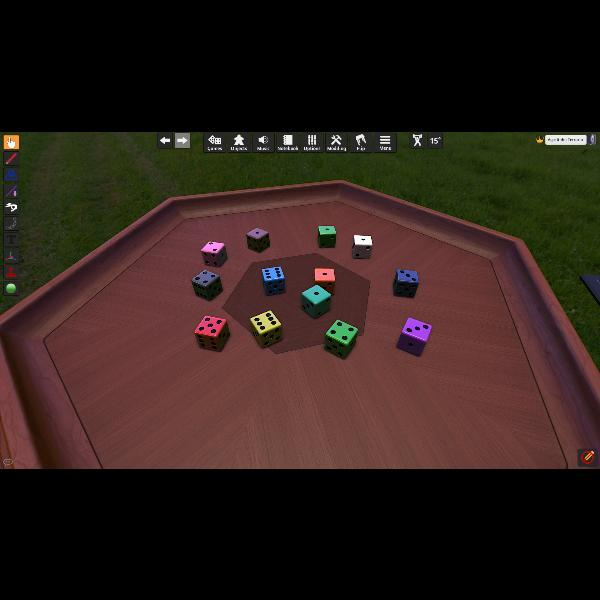d6: (397, 317, 431, 356), (324, 318, 356, 358), (194, 315, 228, 351), (249, 312, 281, 349), (192, 269, 222, 301), (302, 284, 330, 318), (392, 268, 418, 298), (202, 240, 228, 268), (261, 266, 285, 296), (246, 226, 270, 251), (314, 268, 334, 294), (352, 235, 372, 260), (318, 225, 337, 249)
